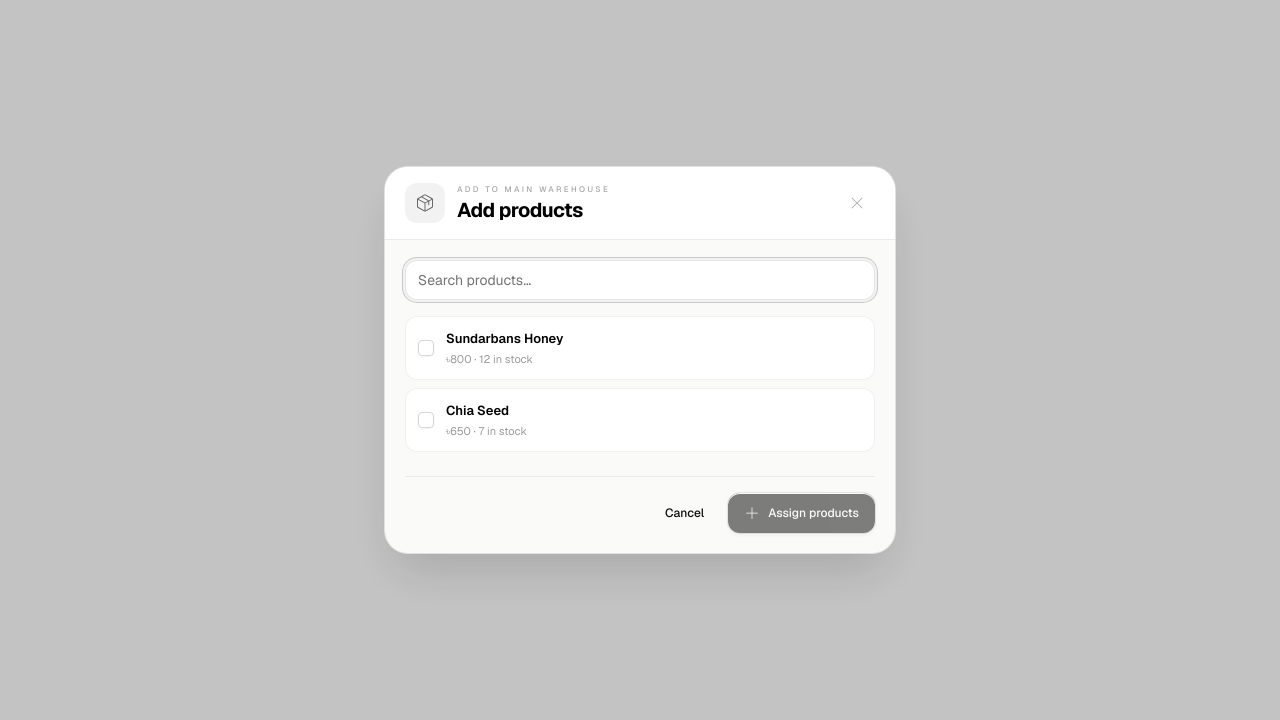
Scenario: add products dialog › lists only products not assigned to this warehouse and filters by search
Expected: the text "Sundarbans Honey" is shown, [446,330,563,347]
Expected: the text "Chia Seed" is shown, [446,402,509,419]
In the search field labelled "Search products": (640, 280) [405,260,875,300], type "chia"
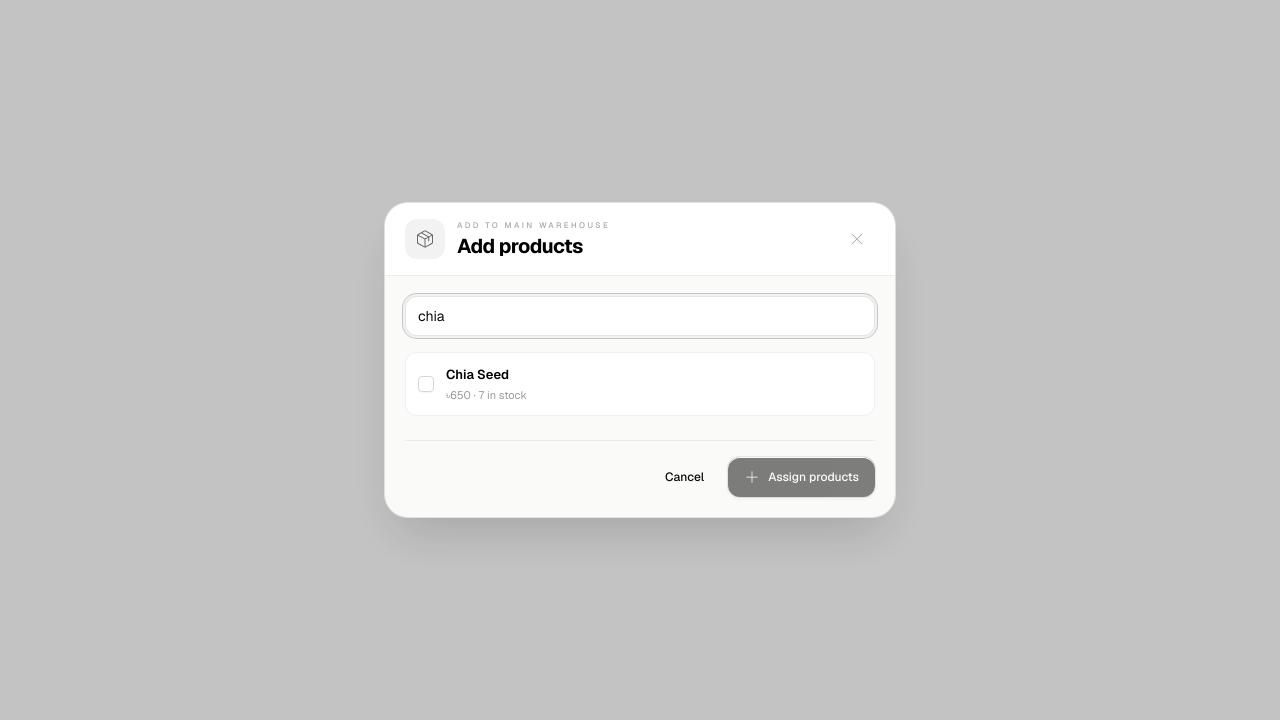
Expected: the text "Chia Seed" is shown, [446,366,509,383]
Expected: the text "Sundarbans Honey" is gone
